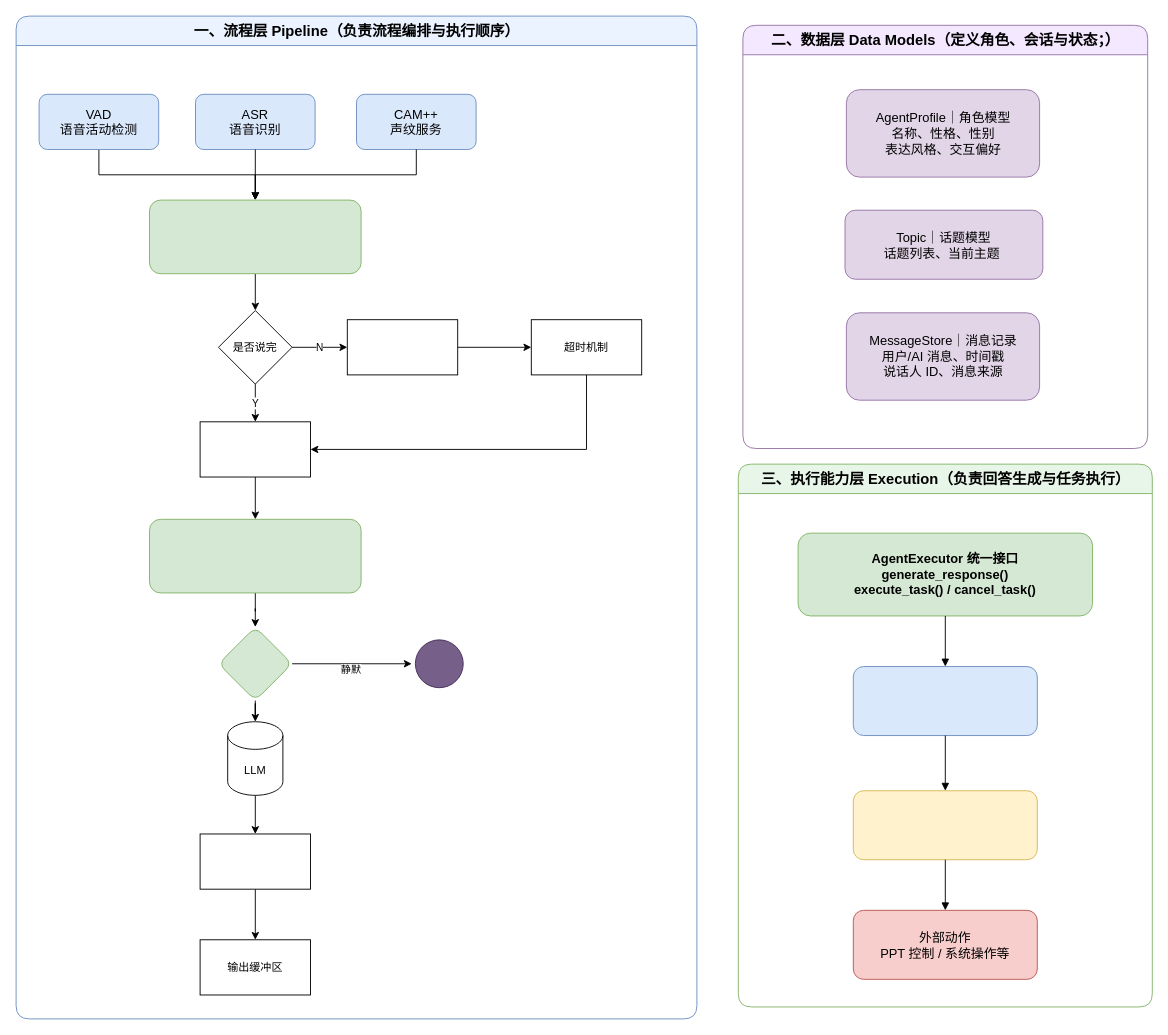
Image size: 1168x1035. Some labels were removed from this diagram. The centre of each missing label's shape, as x and y in pixels:
DirectLLM Agent 对话生成 / 技能与工具调用: point 944,701
MCP / Skills / Tools 工具注册、调用与结果: point 944,825
TTS: point 254,861
会话缓冲层 等待拼接: point 402,347
决策模型 会话完成检测: point 255,236
决策模型 路由决策层: point 255,555
是否回应: point 255,663
进入会话模型: point 254,449
